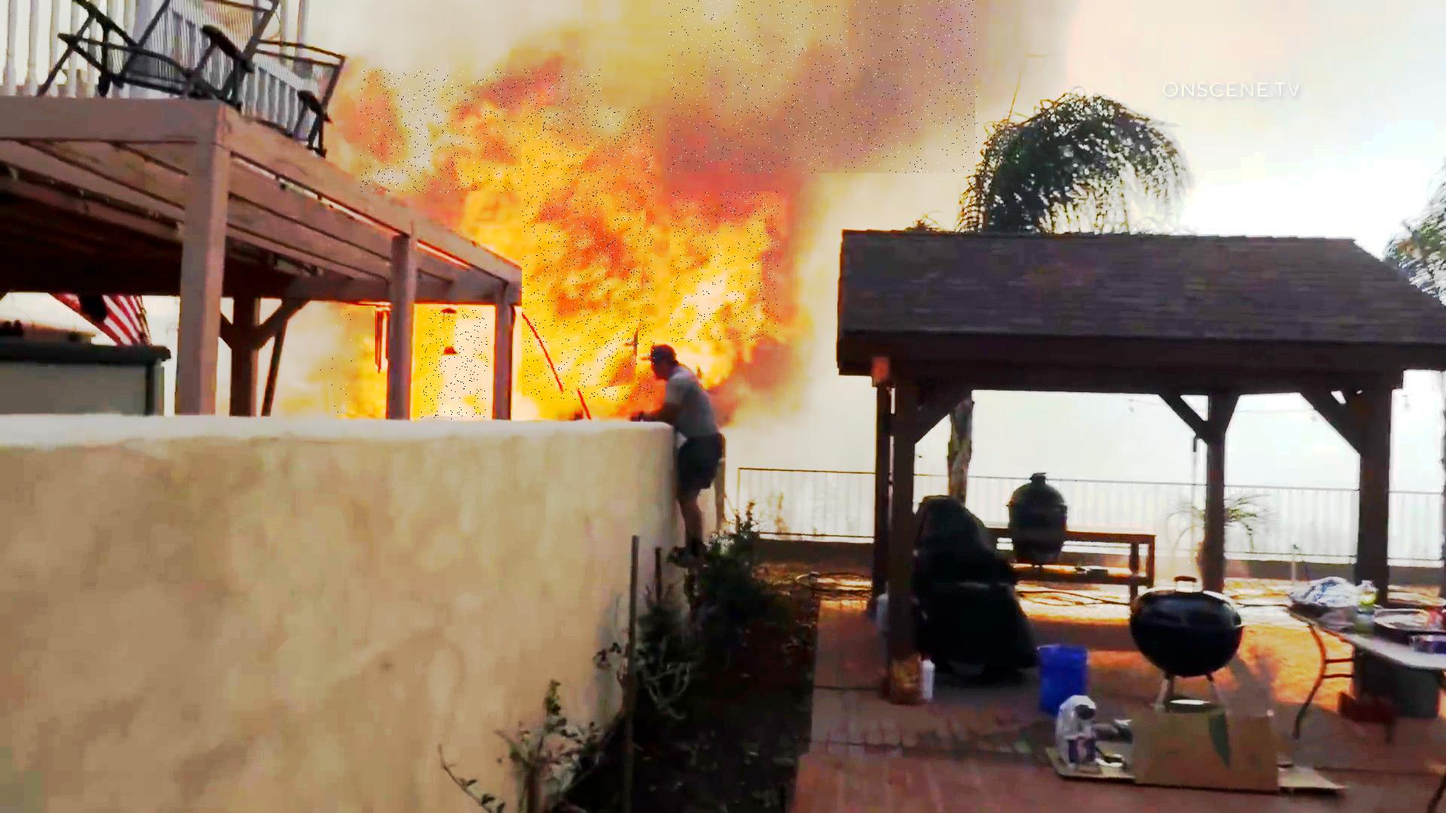fire: (522, 108, 654, 401), (360, 70, 602, 193), (671, 192, 779, 343), (420, 311, 487, 420), (321, 306, 377, 416)
smoke: (667, 0, 978, 173)
